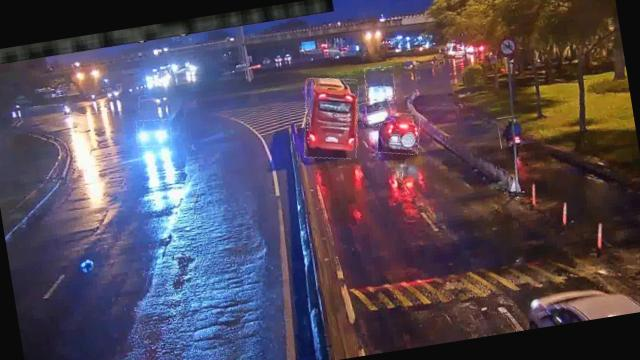Bike: (497, 115, 525, 150)
Bus: (296, 72, 366, 163)
Car: (374, 108, 424, 158), (135, 117, 174, 150), (358, 96, 394, 127)
Truck: (362, 64, 397, 102)
